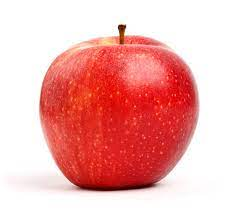apple: (37, 23, 201, 192)
